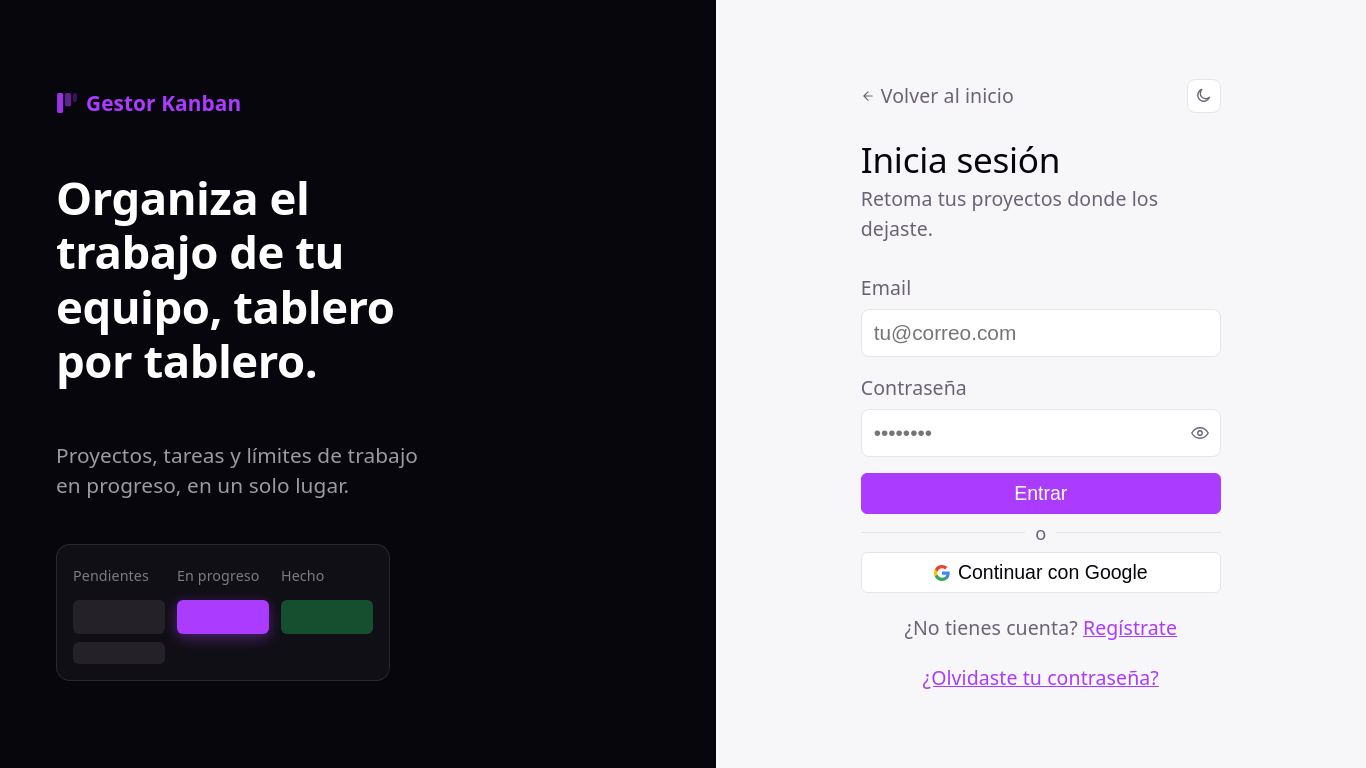
Scenario: inicia sesión, guarda la sesión y llega al dashboard usando el token
Type "ana@correo.com" into the field labelled "Email" at (1041, 333), box x1=861 y1=309 x2=1221 y2=357
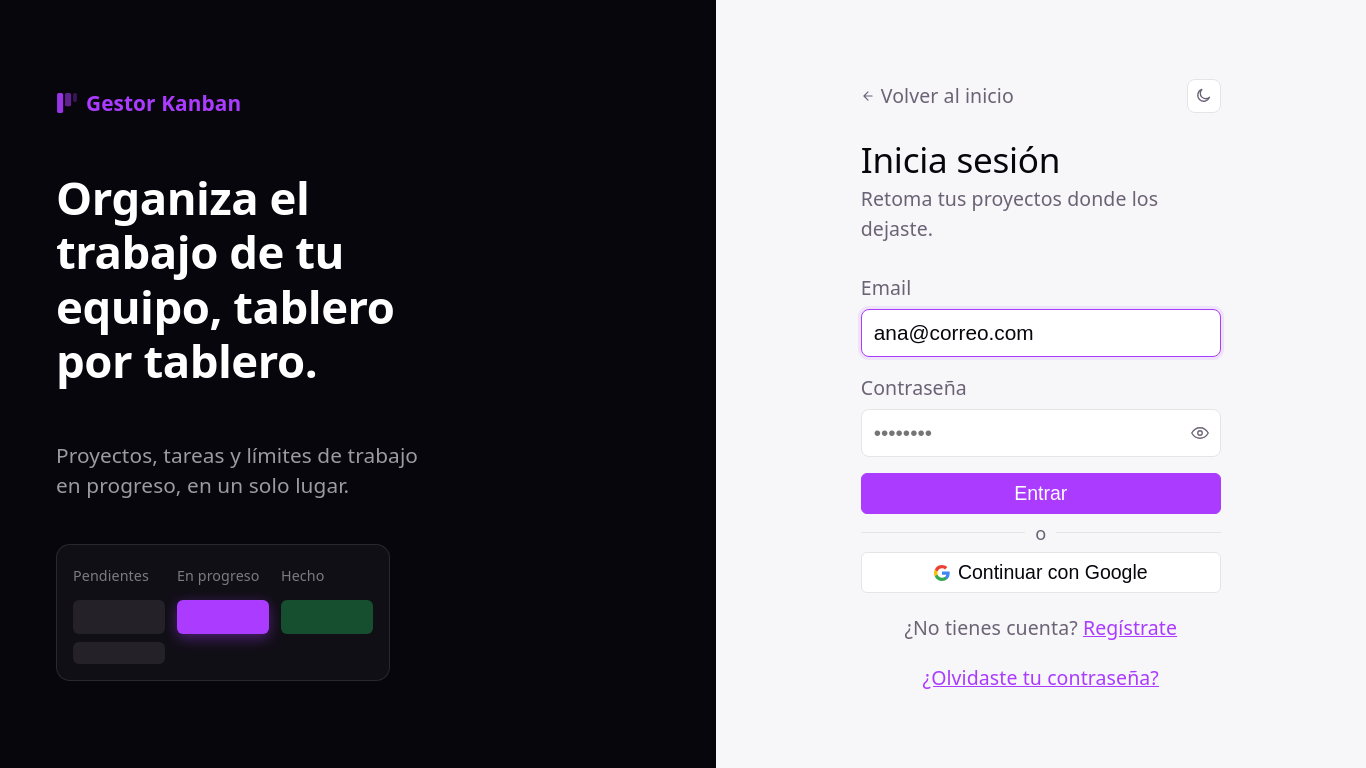
Type "secreta123" into the password field labelled "Contraseña" at (1041, 433), box x1=861 y1=409 x2=1221 y2=457
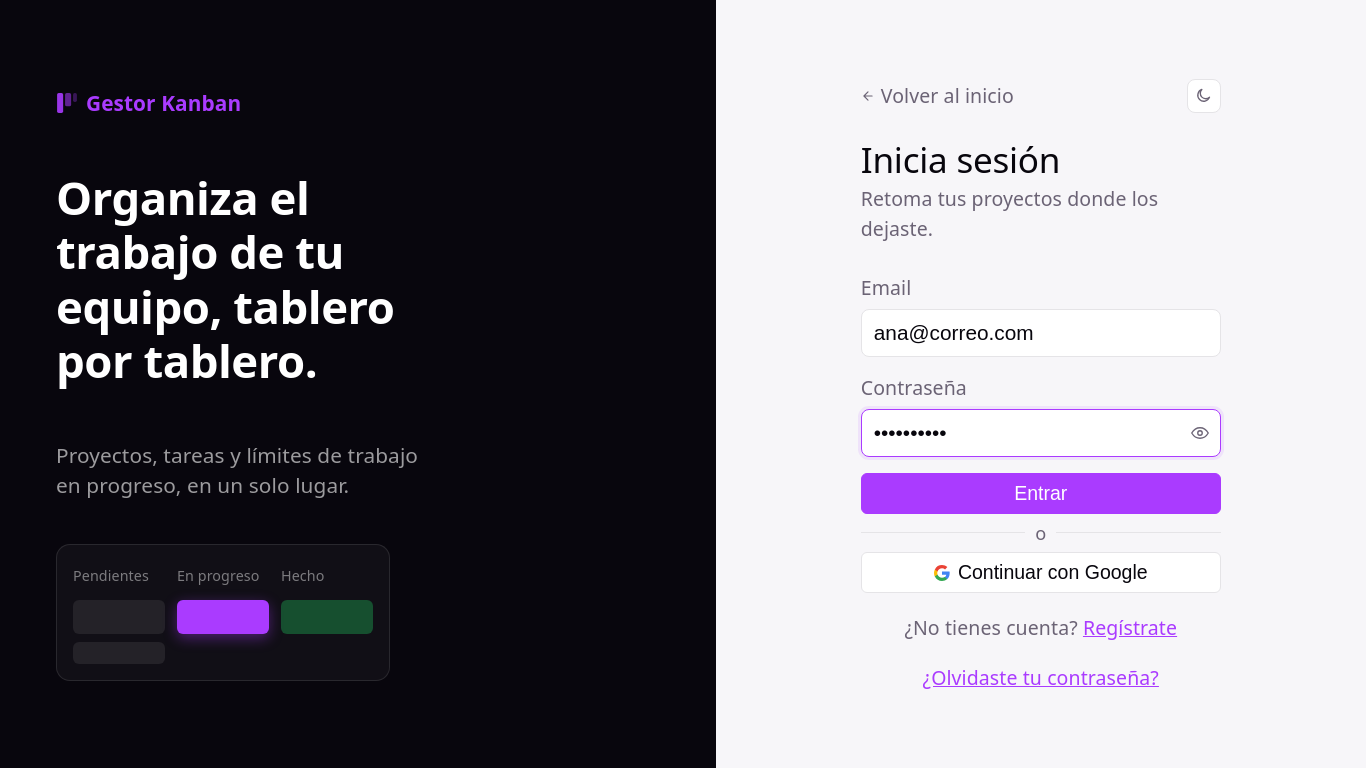
Click the button "Entrar" at (1041, 493), box x1=861 y1=473 x2=1221 y2=514
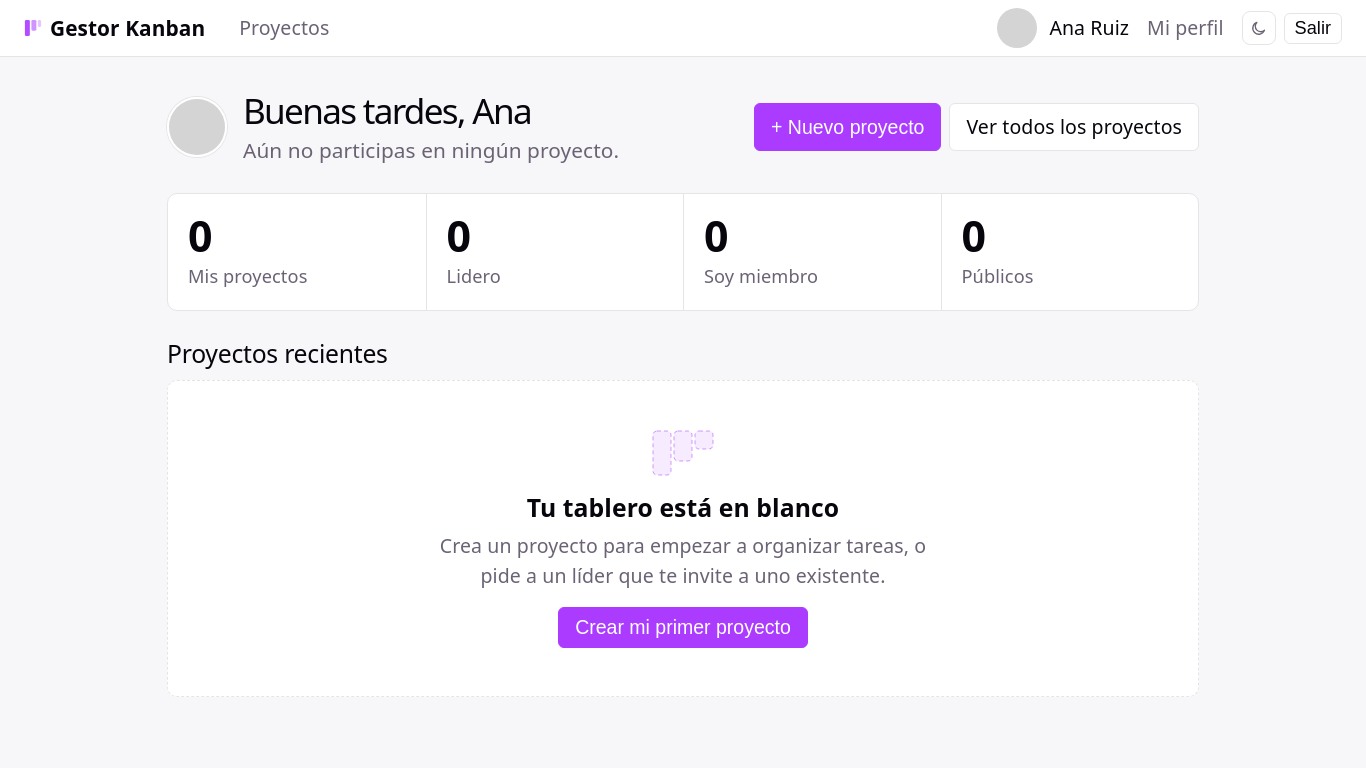
Expected: the heading "Buenas tardes, Ana" is shown, x1=243 y1=86 x2=531 y2=134
Expected: the button "Entrar" is gone
